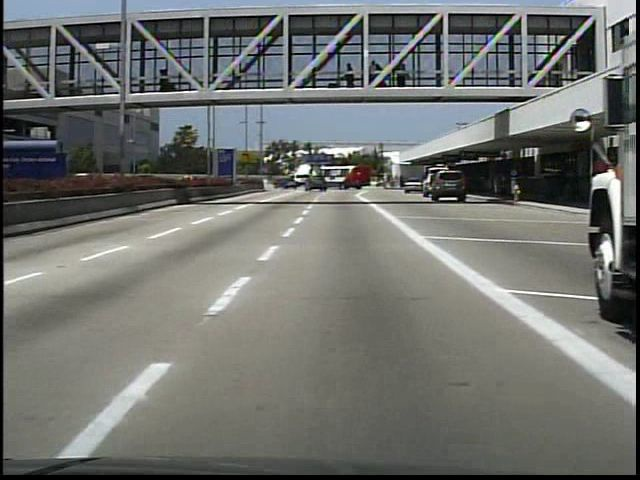person: (341, 58, 359, 91), (157, 65, 176, 94), (489, 169, 506, 200)
